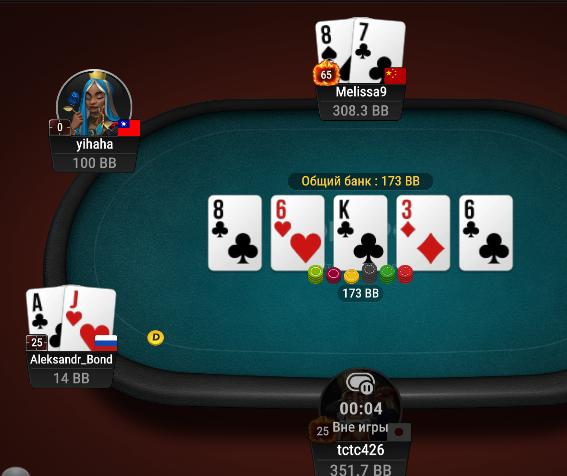3d: (397, 196, 449, 269)
6c: (460, 197, 512, 270)
6h: (272, 196, 325, 269)
7c: (354, 17, 406, 83)
8c: (209, 196, 261, 272)
8s: (315, 19, 355, 83)
Ac: (25, 287, 63, 349)
Jh: (63, 285, 117, 352)
Kc: (335, 196, 388, 272)
